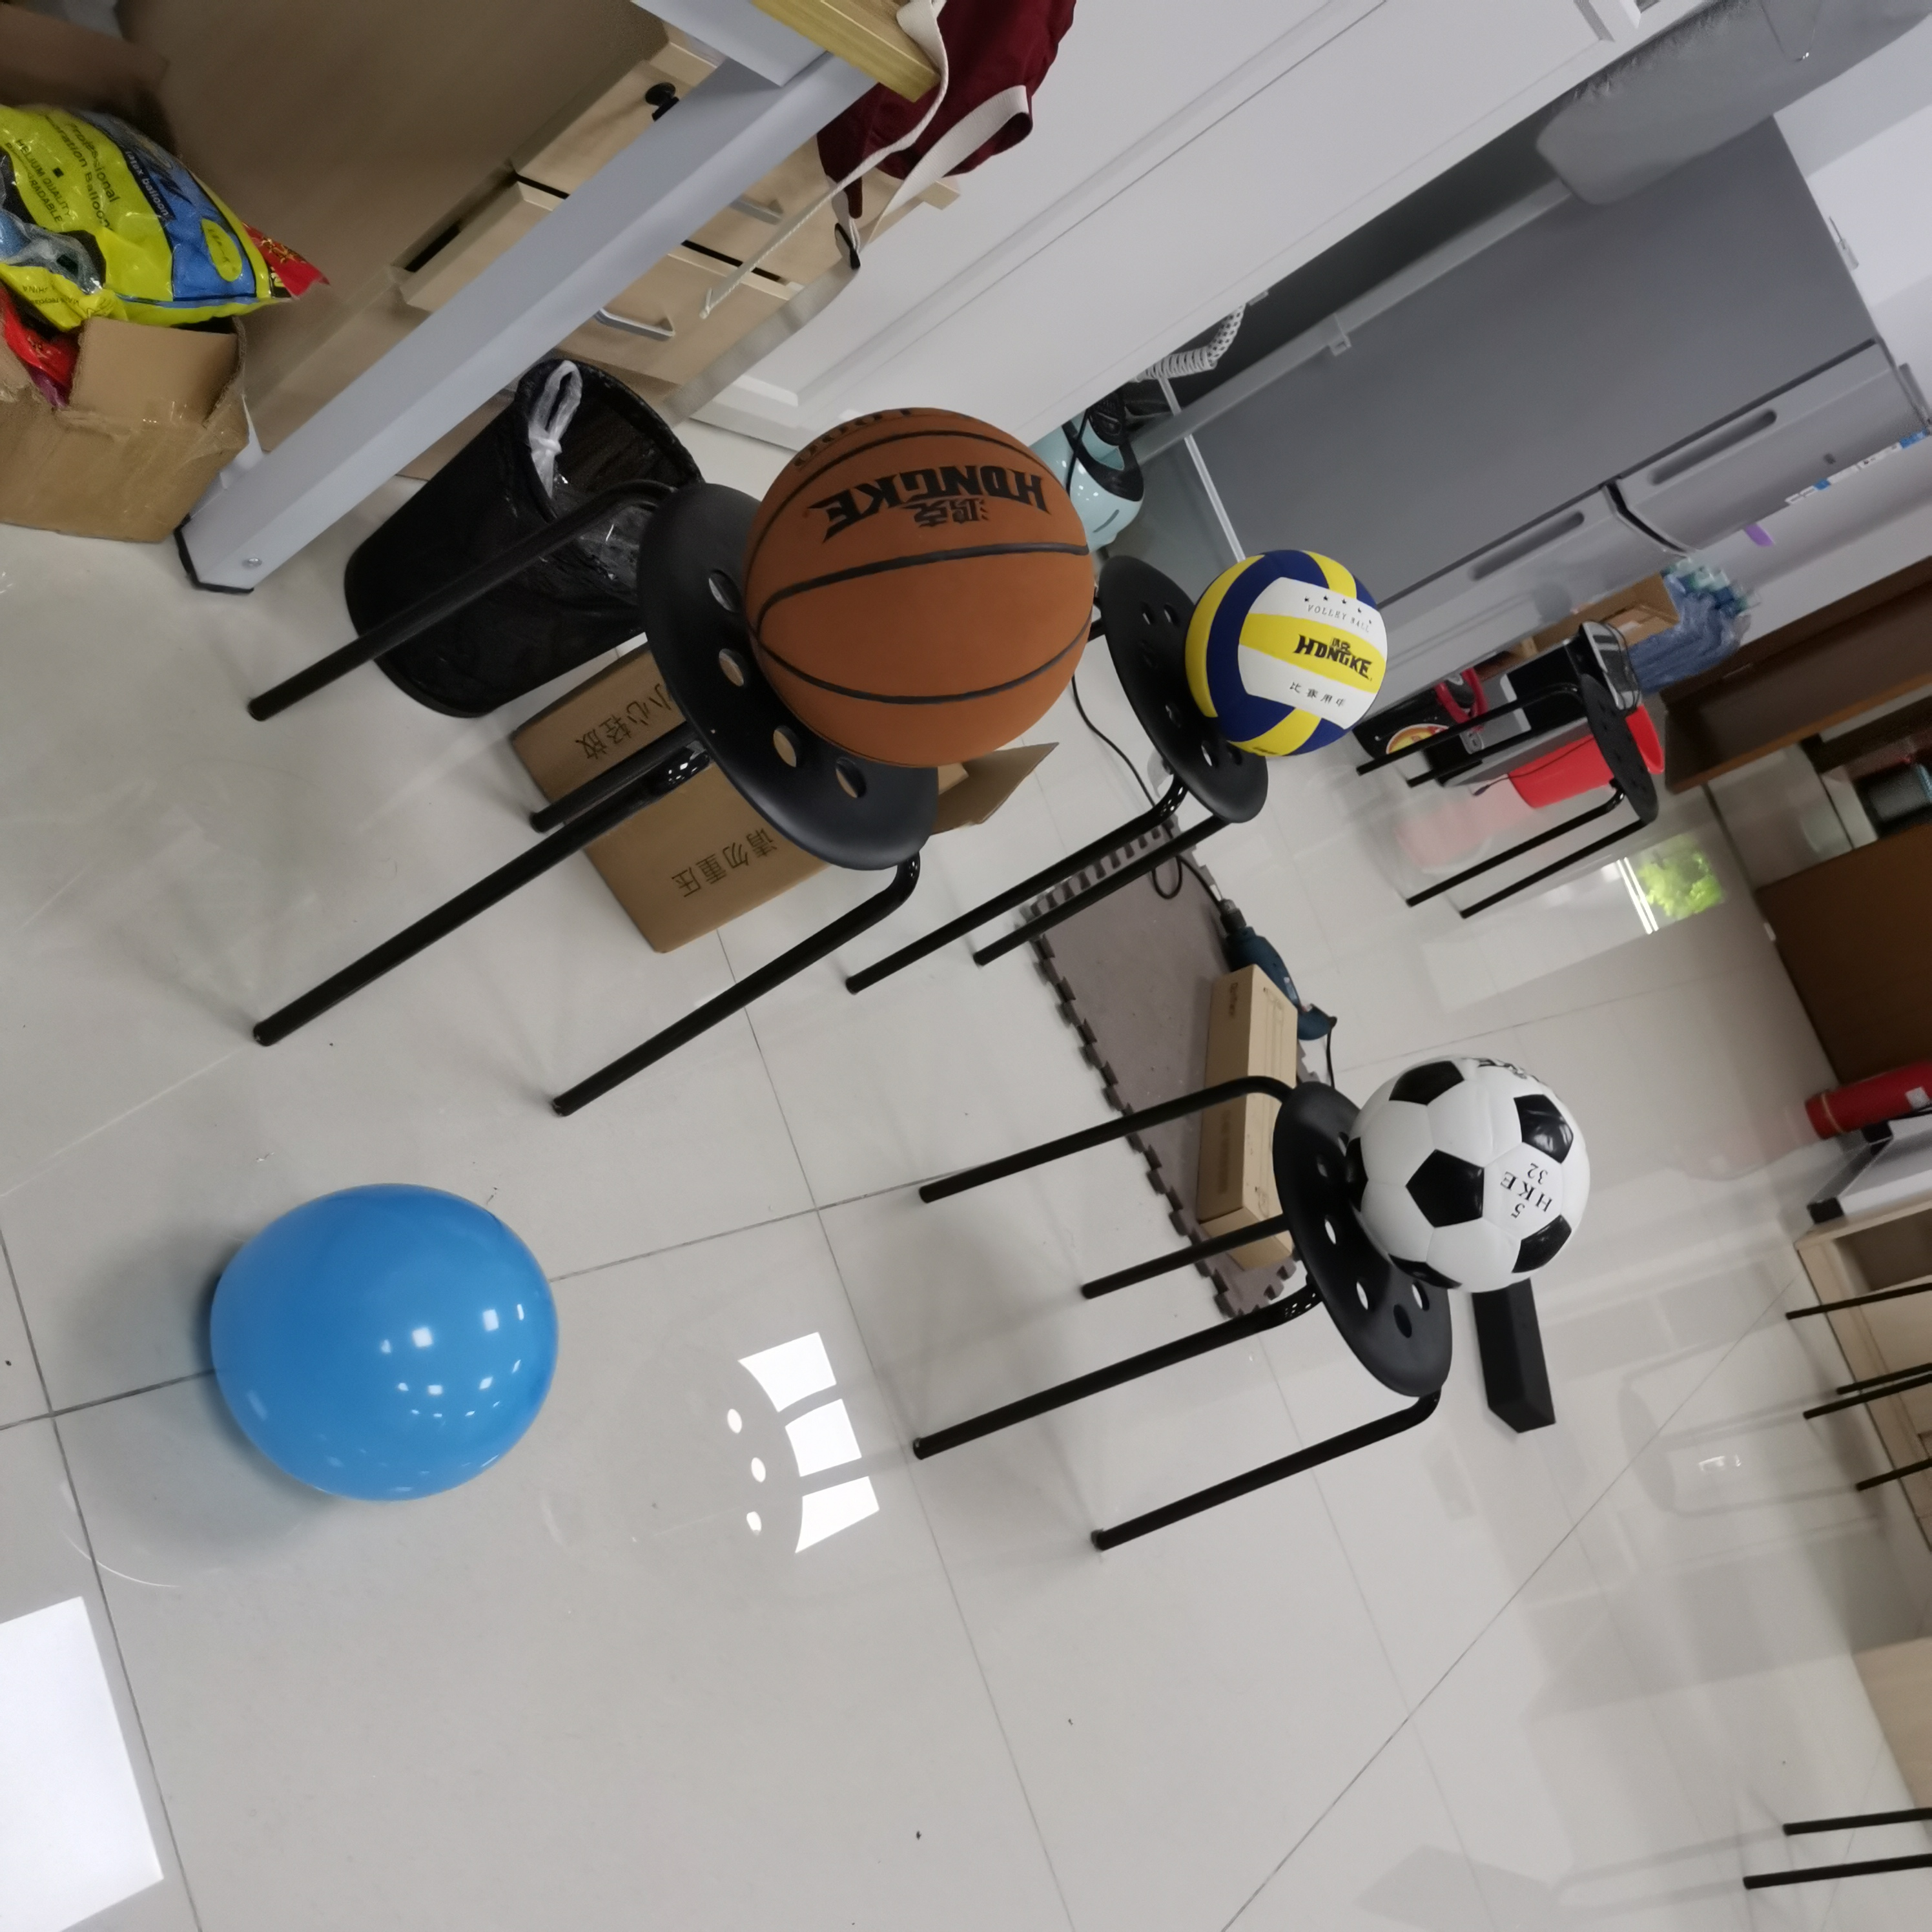balloon: (207, 1184, 559, 1502)
basketball: (741, 407, 1095, 770)
football: (1350, 1056, 1592, 1293)
volleyball: (1185, 548, 1389, 757)
